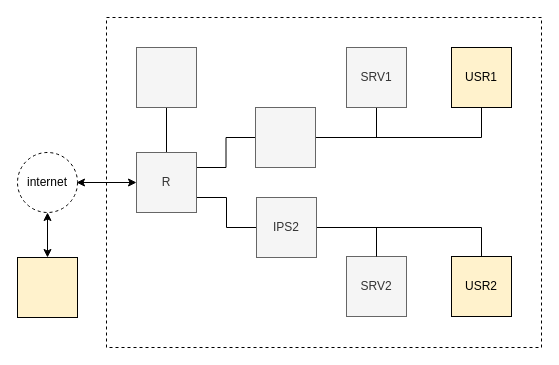
The diagram is 559 pixels wide and 365 high, and some of its shapes have lost their labels. The shapes that lost their labels are listed below. From the top down, each one's centre as x and y in pixels, then its label:
At point 166,77: "DNS".
At point 285,137: "IPS1".
At point 47,287: "MDNS".
